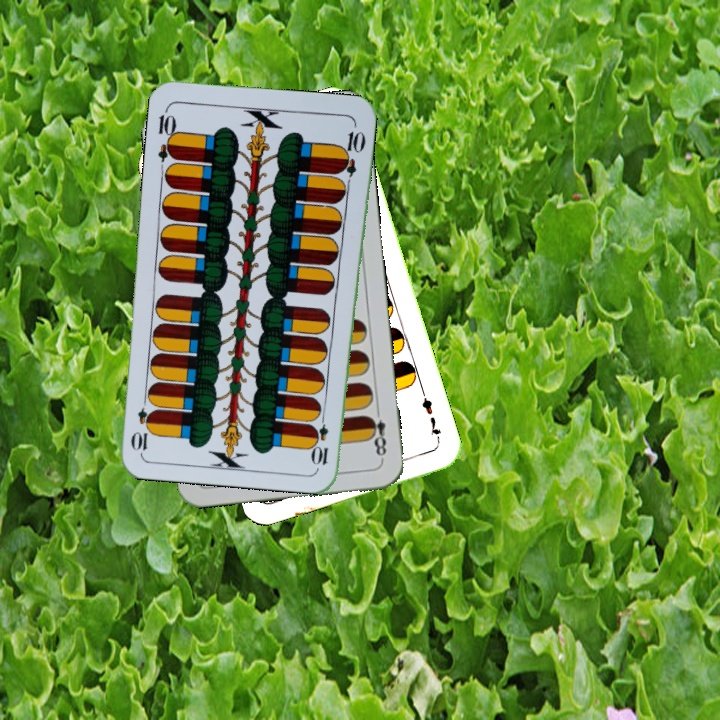E10: (154, 104, 180, 163), (311, 408, 331, 468)
E7: (417, 387, 444, 445)
E8: (364, 404, 389, 463)
